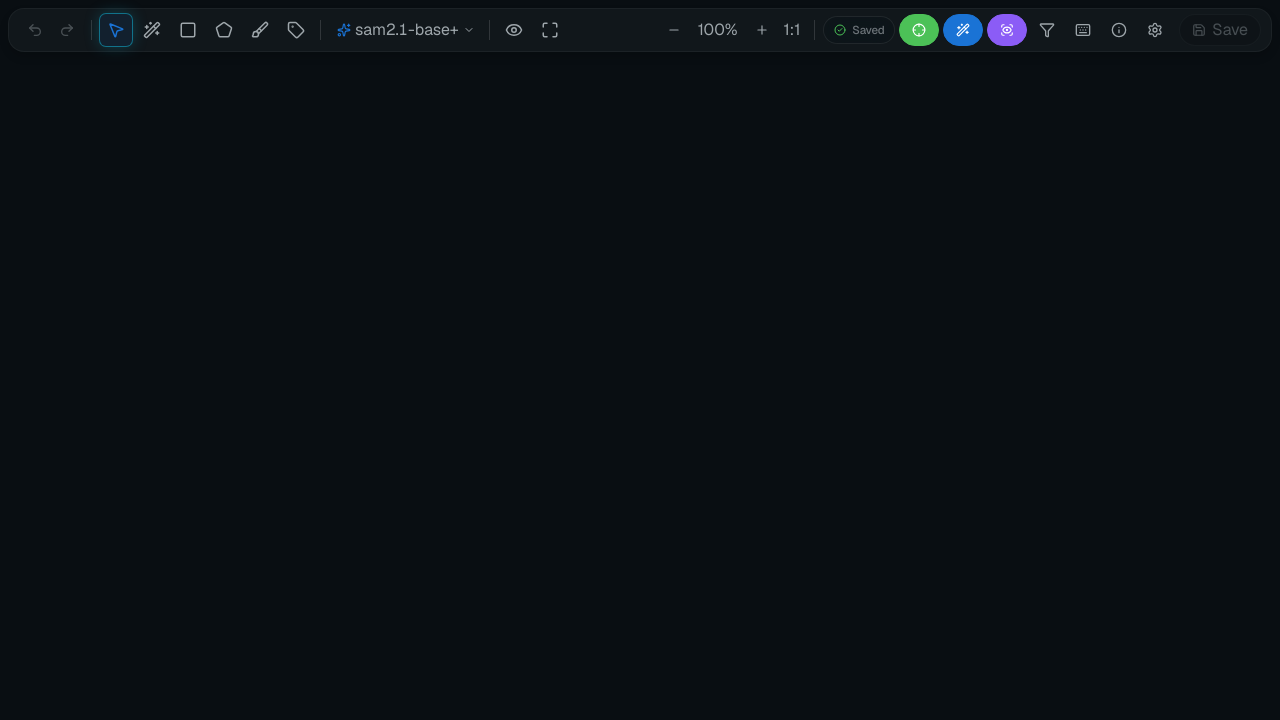
Test: v3.7.2 — confirm dialog for overwrite + batch scope › opens a confirm dialog before firing batch when overwrite=true + task scope
Click the button with test id "yolo-predict-trigger" at (919, 30), box top-left (899, 14), bottom-right (939, 46)
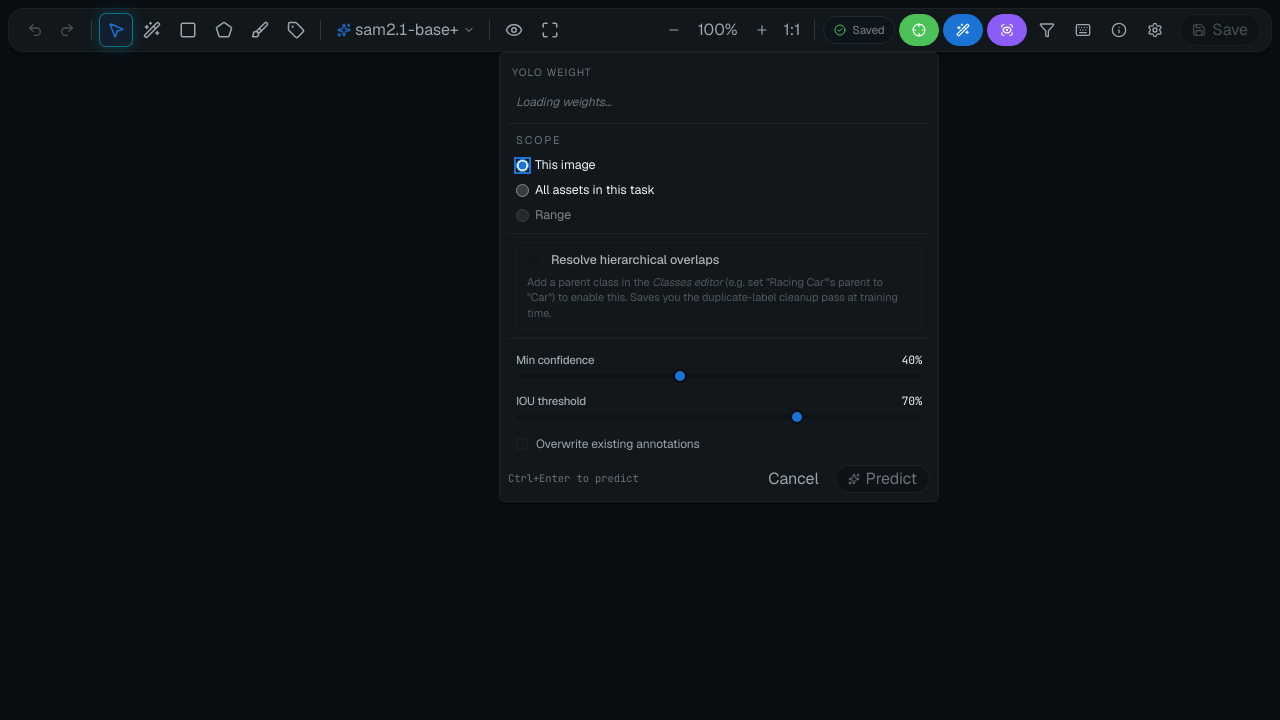
Now the text "All assets in this task" is shown, box top-left (516, 181), bottom-right (655, 198)
Click the radio button labelled "All assets in this task" at (522, 190), box top-left (516, 184), bottom-right (529, 197)
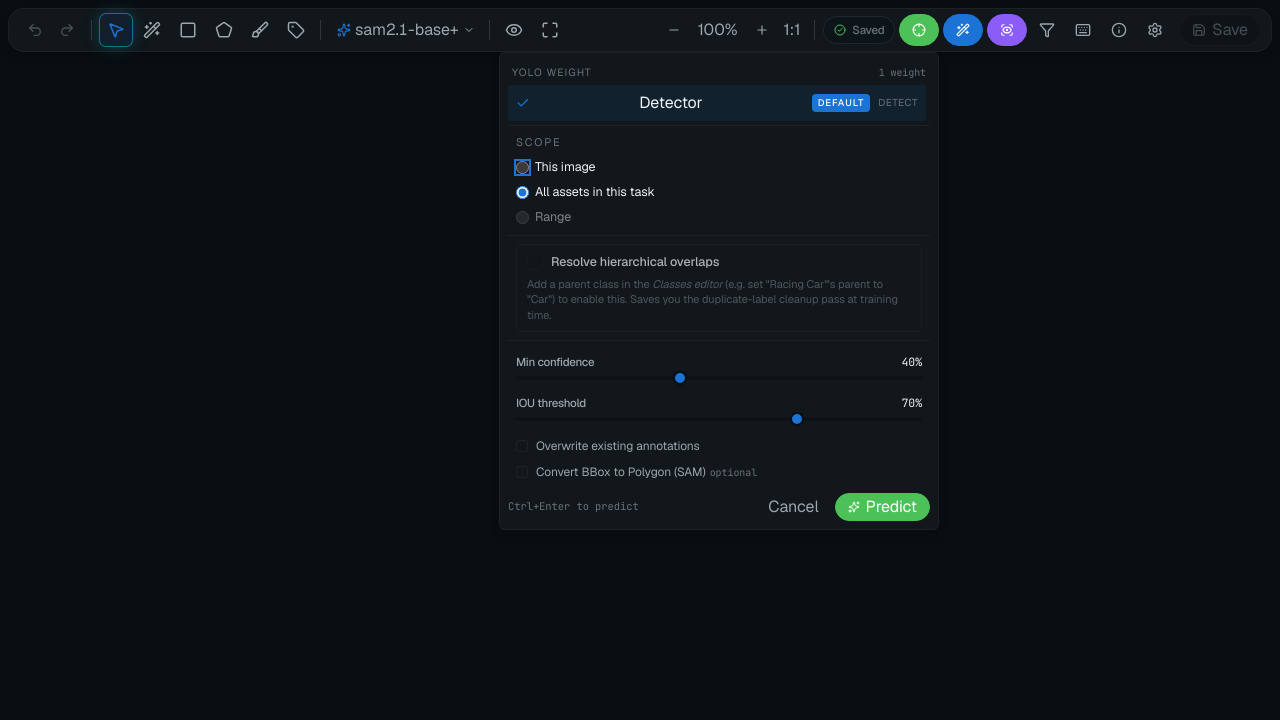
Now the checkbox labelled "Overwrite existing annotations" is shown
Now the button with test id "yolo-predict-go" is enabled, box top-left (835, 493), bottom-right (930, 521)
Click the checkbox labelled "Overwrite existing annotations" at (608, 446), box top-left (516, 438), bottom-right (700, 454)
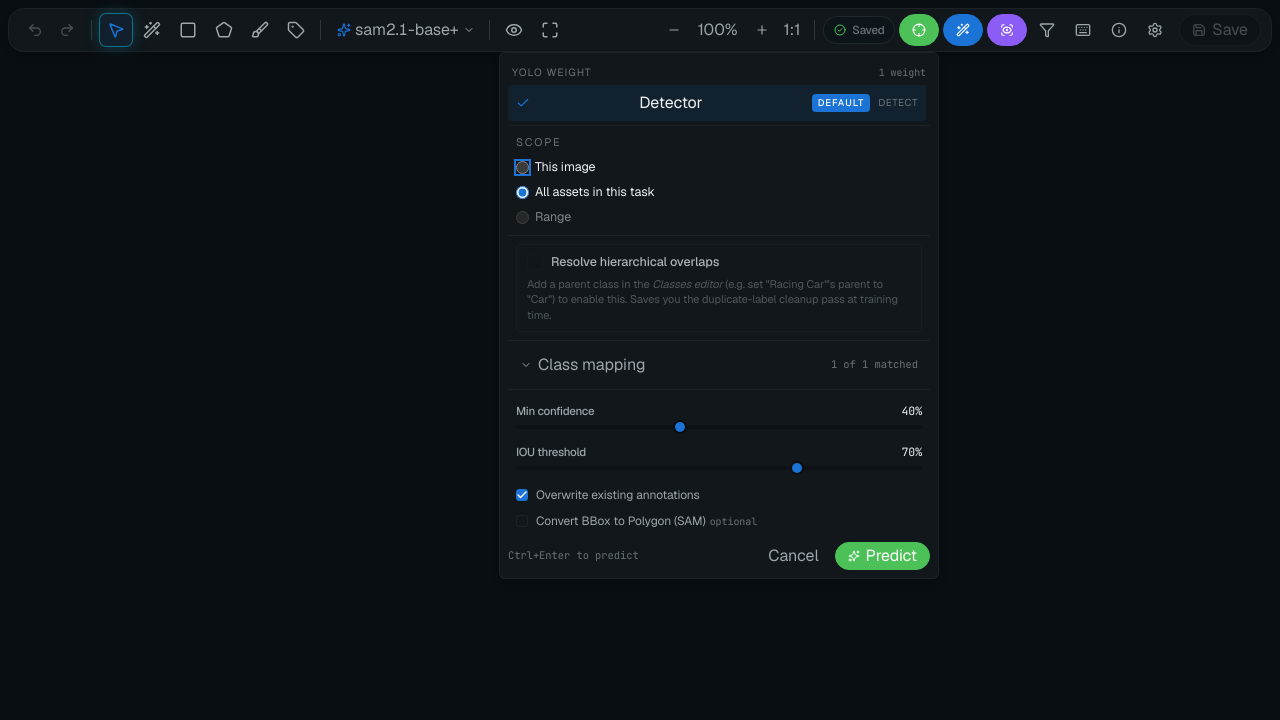
Now the checkbox labelled "Overwrite existing annotations" is checked, box top-left (516, 487), bottom-right (700, 503)
Click the button with test id "yolo-predict-go" at (882, 556), box top-left (835, 542), bottom-right (930, 570)
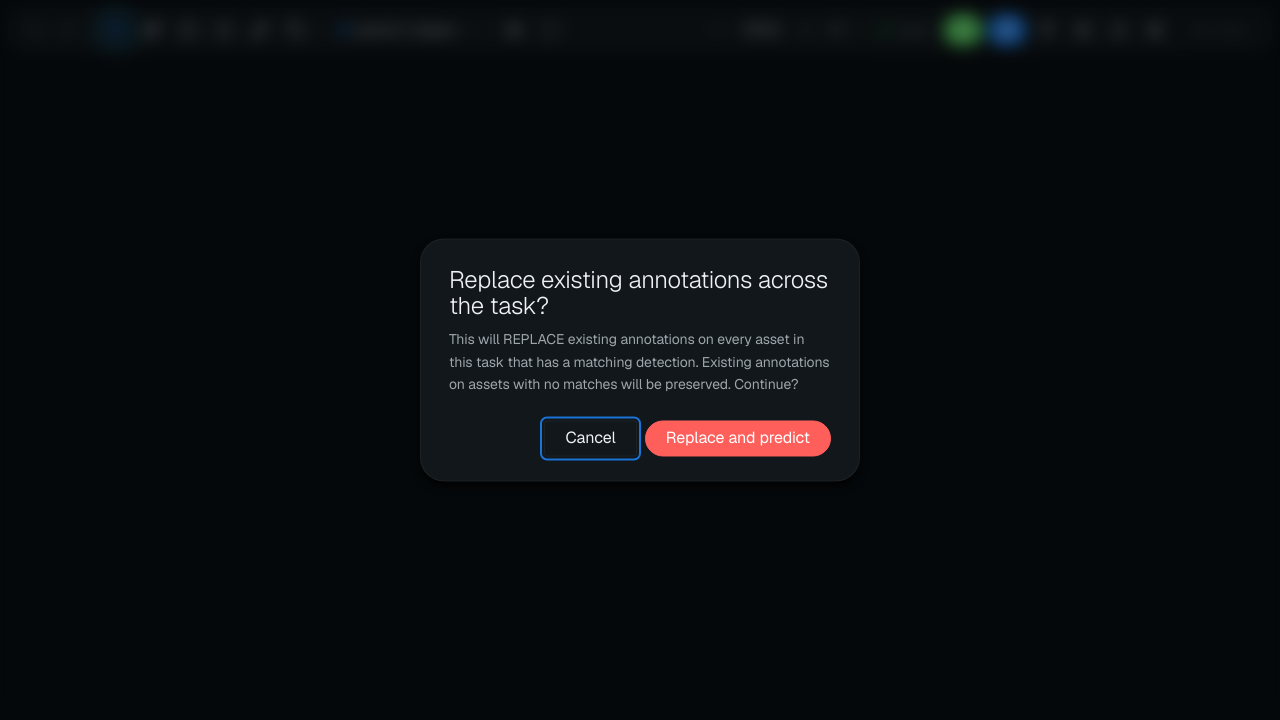
Now the dialog is shown, box top-left (420, 238), bottom-right (860, 482)
Now the dialog shows "Replace existing annotations", box top-left (449, 264), bottom-right (828, 322)
Now the dialog shows "no matches will be preserved", box top-left (449, 330), bottom-right (830, 394)
